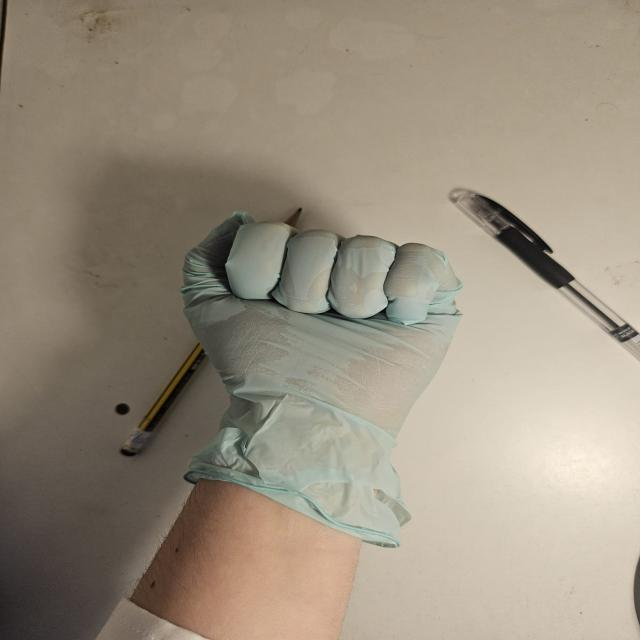gloves_damaged: (177, 208, 466, 550)
